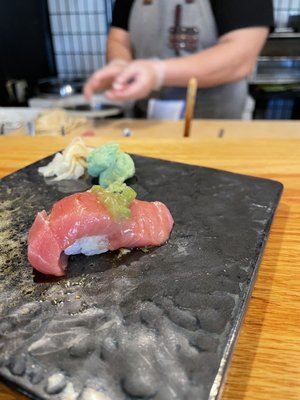curry: (5, 116, 299, 400)
sandwich: (169, 3, 201, 57)
